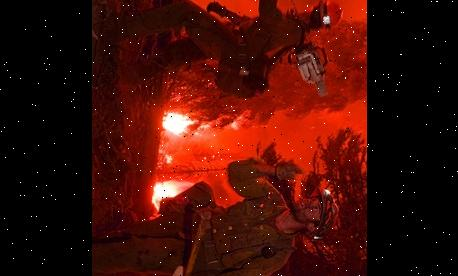fire: (142, 92, 217, 208)
